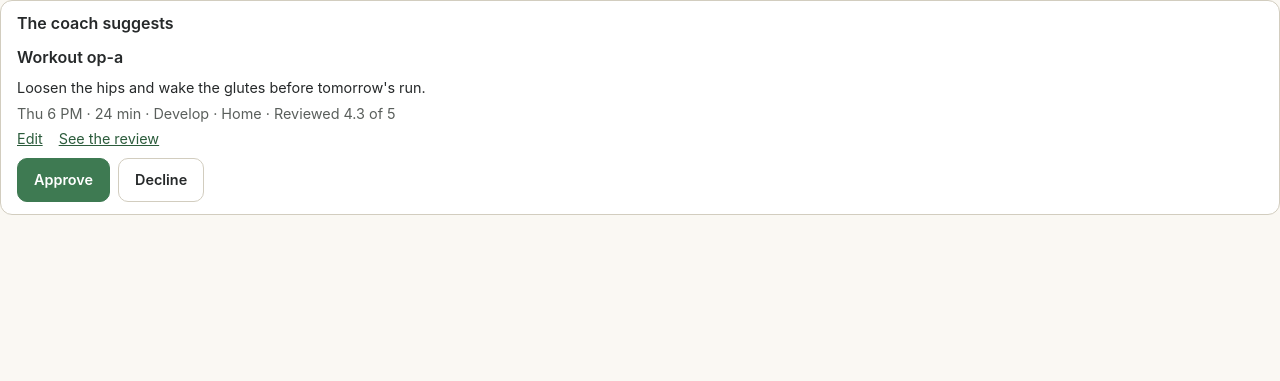
what it is for, and why each move (D1, D3) › one tap on the title: each move, its why under it, and the moves weighed instead — 'or <name> — <why>'
This screenshot has width=1280, height=381.
Step 1. Click the button "Workout op-a" → (70, 57), box [17, 41, 123, 73]
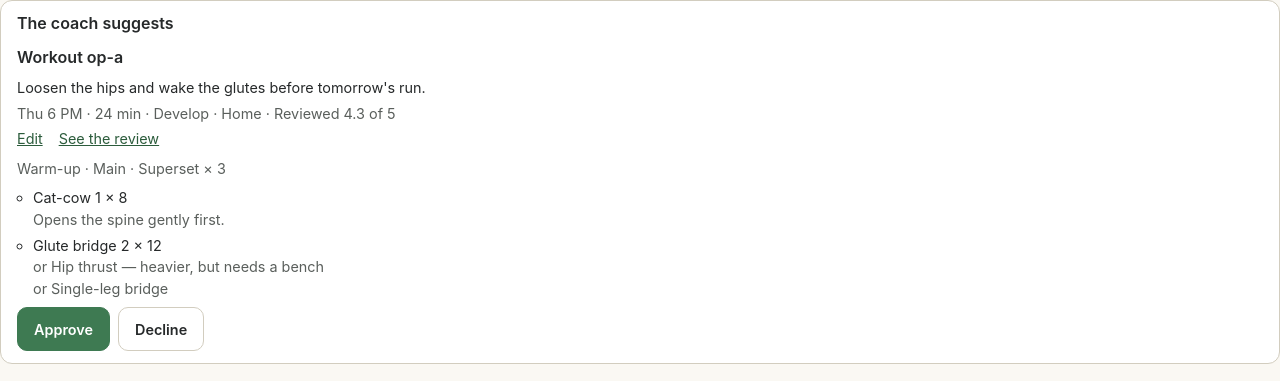
Now the text with class "coach-pc-move" reads "Cat-cow 1 × 8", box [33, 189, 127, 206]
Now the text with class "coach-pc-move-why" reads "Opens the spine gently first.", box [33, 211, 225, 228]
